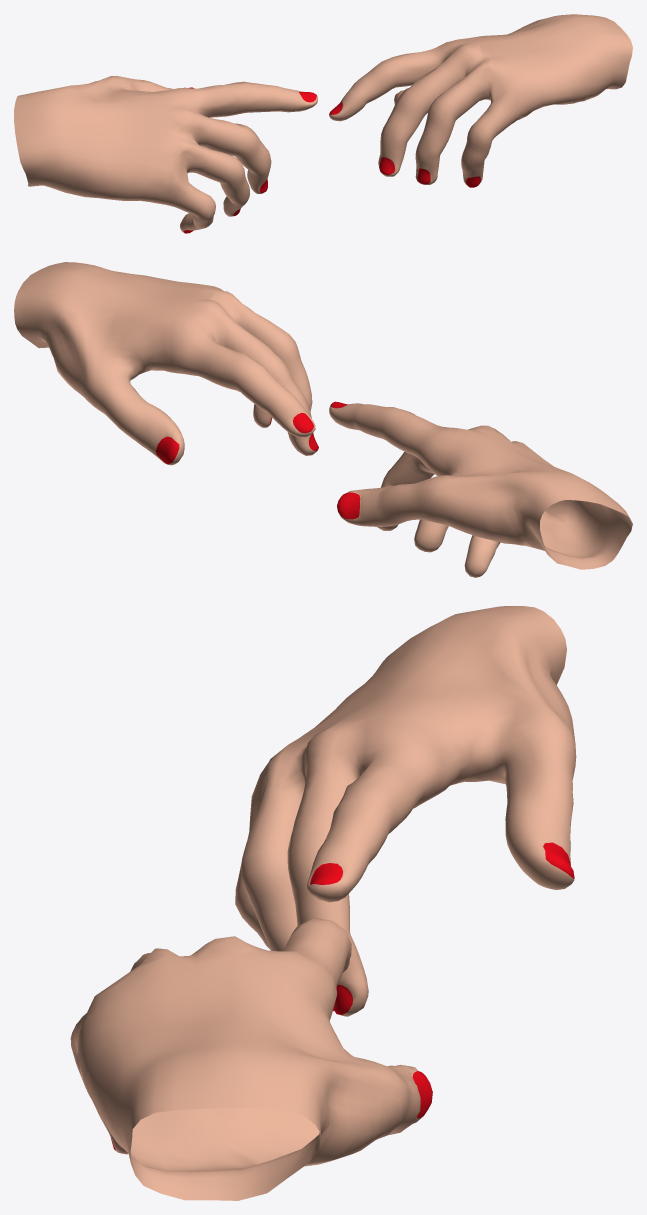
The model's file is hand_export.glb.
3 renders of one model, top to bottom at view 1: azimuth 30°, elevation 25°; view 2: azimuth 150°, elevation 25°; view 3: azimuth 270°, elevation 25°, orthographic. The views are drawn at different scales.
Parts seen in each view (by area): view 1: Other hand, export; view 2: export, Other hand; view 3: Other hand, export.
Boxes of the visible parts, box(x1,y1,x2,y2) form: Other hand: box(14, 75, 317, 233); export: box(329, 14, 632, 187); export: box(14, 262, 318, 465); Other hand: box(329, 401, 632, 577); Other hand: box(235, 606, 576, 1016); export: box(70, 918, 432, 1200).
Bounding box in the file's own units: 5.79 × 1.49 × 2.31.
